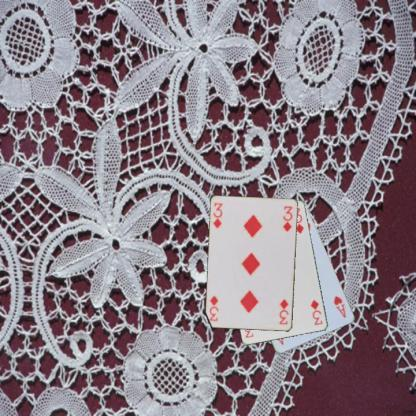3d: (308, 298, 324, 326), (276, 297, 290, 326), (211, 201, 223, 230)
Ah: (331, 294, 347, 318)
